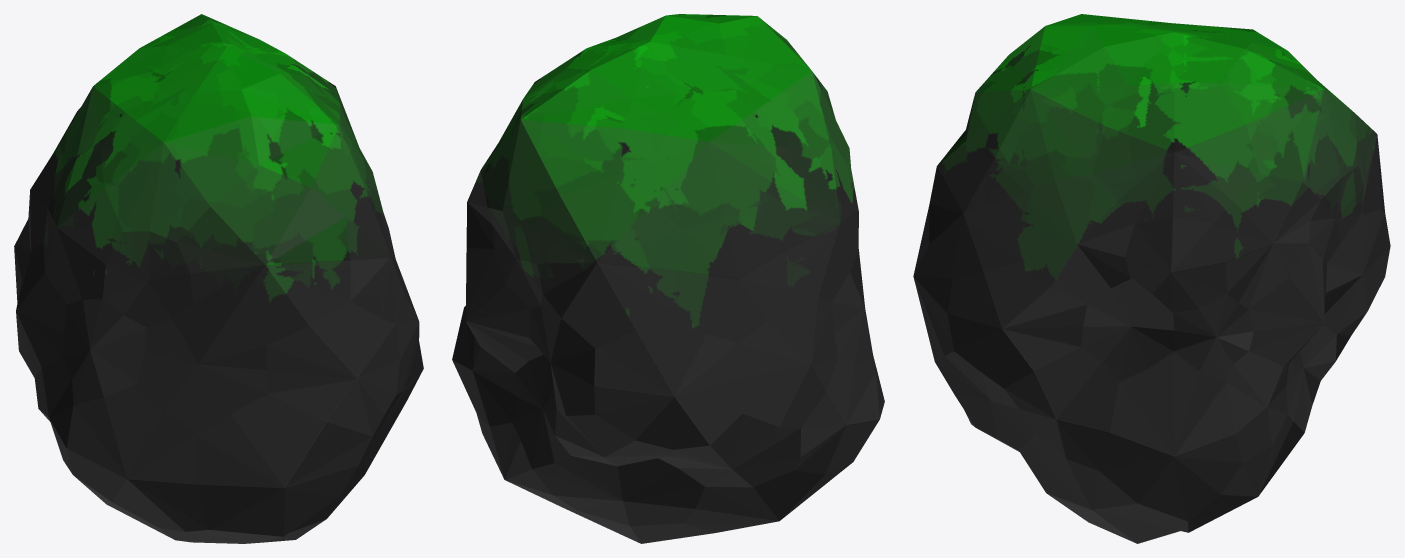
The model's file is GrassyRock4.glb.
The picture shows the model from 3 angles, left to right: view 1: azimuth 30°, elevation 25°; view 2: azimuth 150°, elevation 25°; view 3: azimuth 270°, elevation 25°; orthographic projection. The views are drawn at different scales.
Visible parts, largest first — view 1: GrassyRock4; view 2: GrassyRock4; view 3: GrassyRock4.
Boxes of the visible parts, left/top/right/bottom form: GrassyRock4: left=14, top=14, right=423, bottom=543; GrassyRock4: left=452, top=14, right=884, bottom=543; GrassyRock4: left=913, top=14, right=1390, bottom=543.
Size of the model in its own units: 2.62 by 3.3 by 2.94.
1 material, 1 textured.
